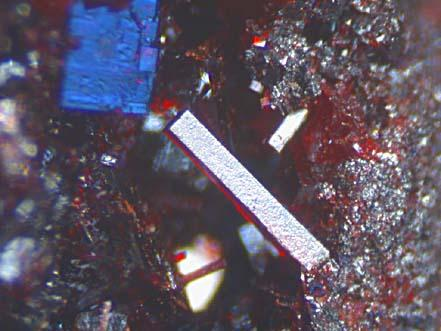cuprite: (245, 1, 441, 331), (0, 1, 193, 331), (185, 40, 224, 102)
